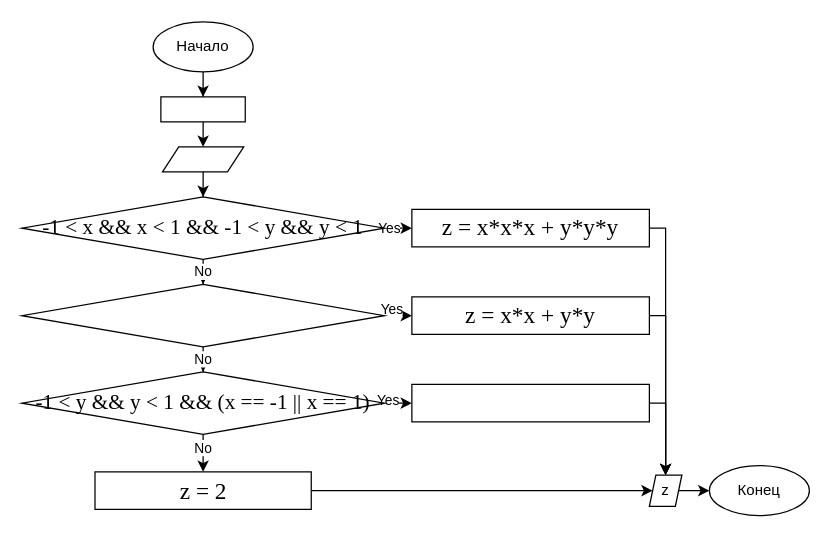
Some shapes in this 831 by 538 pixel diagram are drawn without their labels. Here are the shapes that lost their labels. From the top down, the centre of each, then its label:
At point (202, 109): "int x, y, z".
At point (202, 159): "x, y, z".
At point (202, 315): "-1 < x && x < 1 && (y == -1 || y == 1)".
At point (530, 402): "z = x + y".
